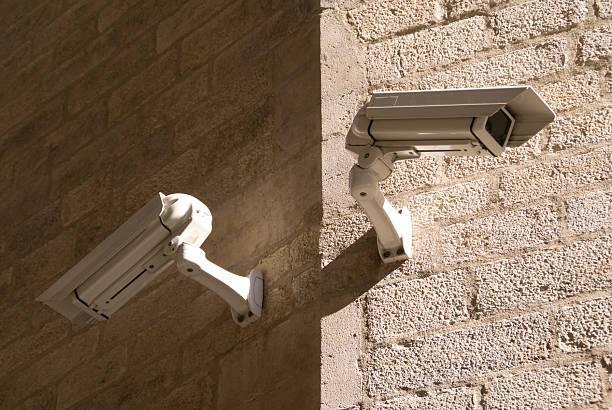camera: (324, 38, 584, 213), (11, 175, 257, 350)
